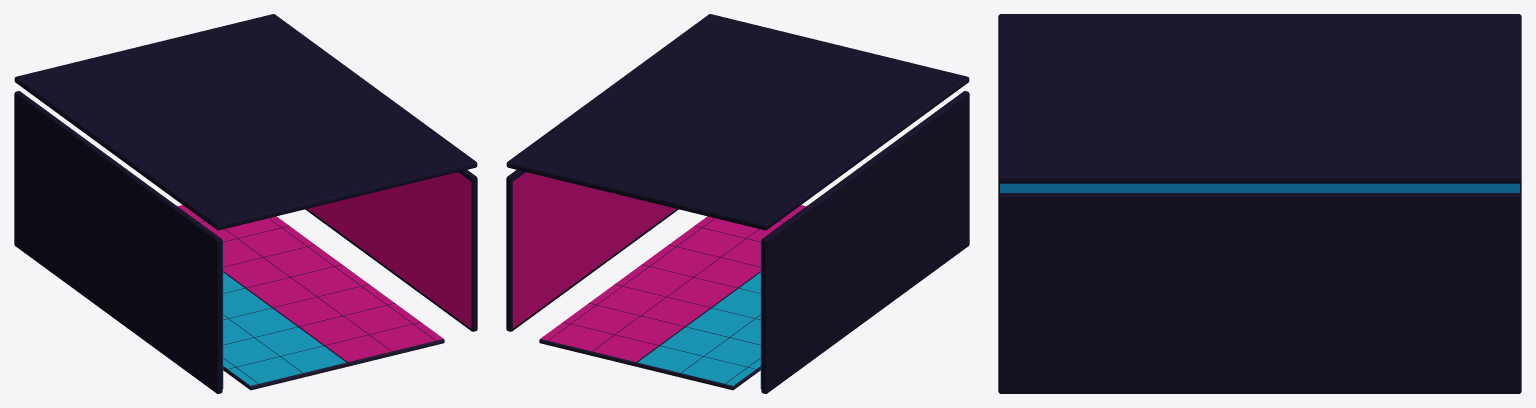
Rendered from split_glow_arcade_shell.glb.
The picture shows the model from 3 angles, left to right: view 1: azimuth 30°, elevation 25°; view 2: azimuth 150°, elevation 25°; view 3: azimuth 270°, elevation 25°; orthographic projection. The views are drawn at different scales.
Parts seen in each view (by area): view 1: Dark Ceiling, Left Dark Wall, Right Pink Floor Reflection, Right Pink Wall Reflection, Left Cyan Floor Reflection, Right Dark Wall, Wet Reflective Tile Floor; view 2: Dark Ceiling, Left Dark Wall, Right Pink Floor Reflection, Right Pink Wall Reflection, Left Cyan Floor Reflection, Right Dark Wall, Wet Reflective Tile Floor; view 3: Right Dark Wall, Dark Ceiling, Left Cyan Wall Reflection.
Boxes of the visible parts, left/top/right/bottom form: Dark Ceiling: left=14, top=14, right=477, bottom=230; Left Dark Wall: left=14, top=91, right=222, bottom=393; Right Pink Floor Reflection: left=177, top=205, right=443, bottom=361; Right Pink Wall Reflection: left=307, top=172, right=471, bottom=328; Left Cyan Floor Reflection: left=223, top=272, right=345, bottom=385; Right Dark Wall: left=305, top=170, right=477, bottom=331; Wet Reflective Tile Floor: left=223, top=271, right=444, bottom=390; Dark Ceiling: left=506, top=14, right=969, bottom=230; Left Dark Wall: left=761, top=91, right=969, bottom=393; Right Pink Floor Reflection: left=540, top=205, right=806, bottom=361; Right Pink Wall Reflection: left=512, top=172, right=676, bottom=328; Left Cyan Floor Reflection: left=638, top=272, right=760, bottom=385; Right Dark Wall: left=506, top=170, right=678, bottom=331; Wet Reflective Tile Floor: left=539, top=271, right=760, bottom=390; Right Dark Wall: left=998, top=193, right=1521, bottom=393; Dark Ceiling: left=998, top=14, right=1521, bottom=183; Left Cyan Wall Reflection: left=1000, top=183, right=1519, bottom=192.
Size of the model in its own units: 13.42 by 8.52 by 18.12.
